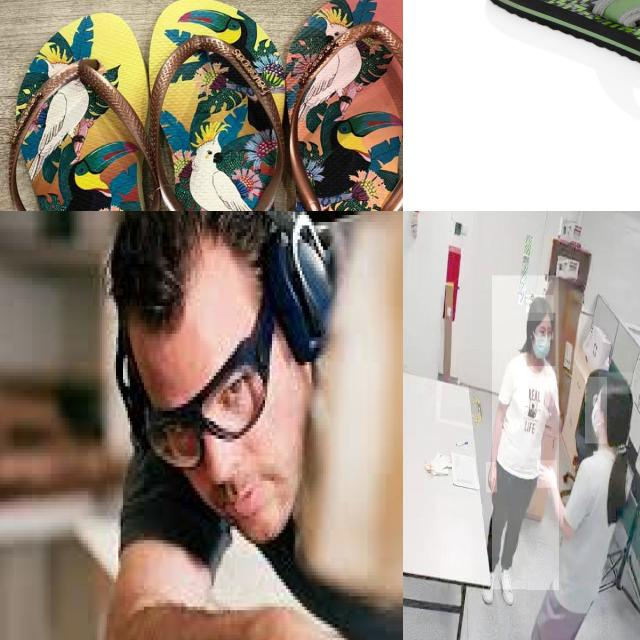Ear-protection: (223, 211, 339, 355)
Sandals: (0, 0, 289, 211), (256, 0, 403, 211), (481, 0, 640, 118)
face_mask: (526, 313, 556, 366), (585, 377, 607, 443)
hand_noglove: (537, 460, 557, 489), (486, 462, 498, 493)
head_nohelmet: (598, 372, 634, 394), (526, 295, 554, 322)
person: (526, 367, 637, 640), (492, 276, 559, 590)
shoes: (498, 566, 516, 611), (482, 558, 498, 608)
